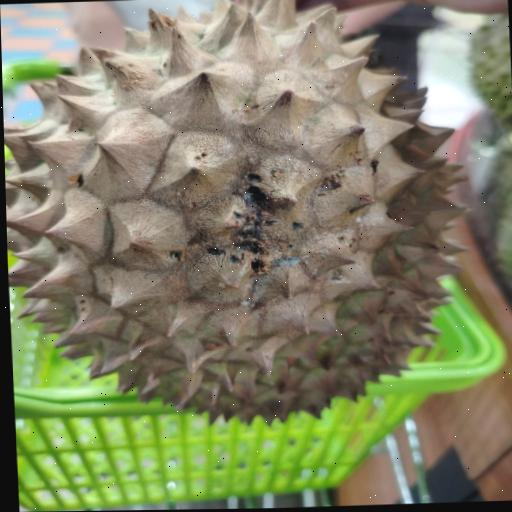rot: (0, 0, 494, 443)
